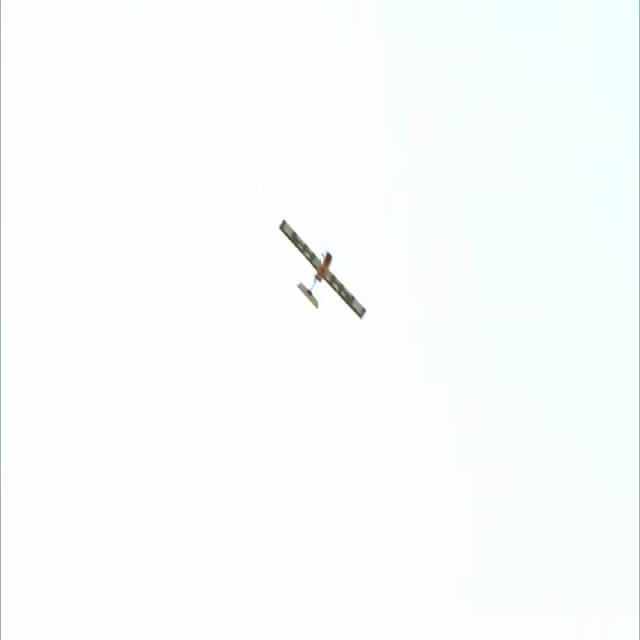iha: (310, 248, 336, 293)
